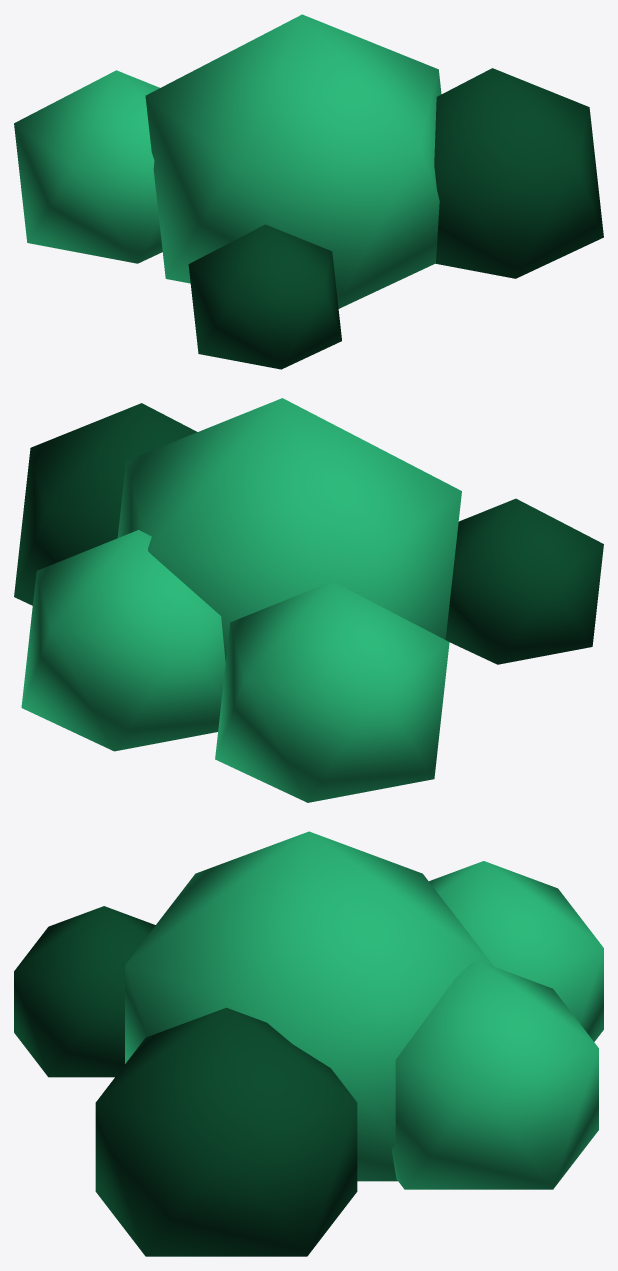
File: struik.fbx
3 views of the same model, one above another, from view 1: azimuth 30°, elevation 25°; view 2: azimuth 150°, elevation 25°; view 3: azimuth 270°, elevation 25° (orthographic). The views are drawn at different scales.
Visible parts, largest first — view 1: Icosphere, Icosphere.003, Icosphere.001, Icosphere.002; view 2: Icosphere, Icosphere.001, Icosphere.004, Icosphere.002, Icosphere.003; view 3: Icosphere, Icosphere.003, Icosphere.004, Icosphere.002, Icosphere.001.
Boxes of the visible parts, left/top/right/bottom form: Icosphere: left=145, top=14, right=441, bottom=308; Icosphere.003: left=434, top=68, right=603, bottom=278; Icosphere.001: left=14, top=70, right=162, bottom=263; Icosphere.002: left=188, top=224, right=341, bottom=369; Icosphere: left=117, top=398, right=461, bottom=661; Icosphere.001: left=215, top=581, right=449, bottom=802; Icosphere.004: left=21, top=530, right=225, bottom=751; Icosphere.002: left=445, top=498, right=603, bottom=664; Icosphere.003: left=14, top=403, right=197, bottom=605; Icosphere: left=125, top=831, right=492, bottom=1181; Icosphere.003: left=95, top=1007, right=357, bottom=1256; Icosphere.004: left=391, top=961, right=598, bottom=1189; Icosphere.002: left=14, top=906, right=155, bottom=1077; Icosphere.001: left=429, top=861, right=603, bottom=1041.
Bounding box in the file's own units: 271 × 133 × 247.
